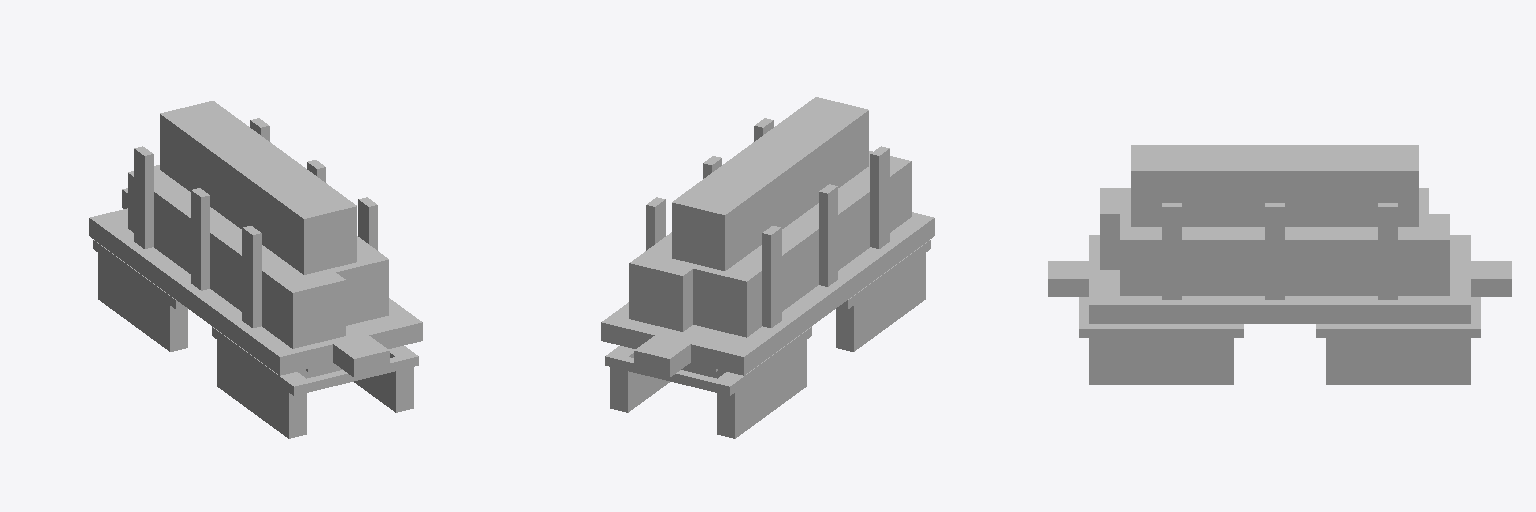
Rendered from ModelFreightWood.obj.
The picture shows the model from 3 angles: view 1: azimuth 30°, elevation 25°; view 2: azimuth 150°, elevation 25°; view 3: azimuth 270°, elevation 25°; orthographic projection.
Parts seen in each view (by area): view 1: box12, box11, box79, box1, box0, box10, box5, box3, box4, box54, box73, box81 (+1 smaller); view 2: box12, box11, box79, box10, box0, box1, box3, box5, box4, box68, box53, bogey0 (+1 smaller); view 3: box12, box10, box79, box2, box, box11, box9, box6, box7, box54, box68.
Part boxes in pixels (x1,y1,x2,y2): box12: (160,101,356,274); box11: (128,165,345,348); box79: (89,208,422,375); box1: (217,330,297,438); box0: (98,243,178,351); box10: (331,236,388,325); box5: (134,146,153,248); box3: (242,226,261,327); box4: (191,188,209,290); box54: (333,336,389,377); box73: (289,353,418,395); box81: (354,348,404,412); box12: (672,97,868,270); box11: (693,151,911,337); box79: (601,212,934,375); box10: (629,232,697,331); box0: (726,330,806,438); box1: (845,243,925,351); box3: (870,146,889,248); box5: (762,226,781,327); box4: (819,184,837,286); box68: (634,336,690,377); box53: (605,353,734,395); bogey0: (619,348,669,412); box12: (1131,145,1418,226); box10: (1120,214,1449,295); box79: (1089,235,1470,323); box2: (1089,324,1233,384); box: (1326,324,1470,384); box11: (1100,188,1428,269); box9: (1378,203,1397,299); box6: (1265,203,1284,299); box7: (1162,203,1181,299); box54: (1048,261,1088,296); box68: (1471,261,1511,296).
Size of the model in its own units: 1 by 1.31 by 2.81.